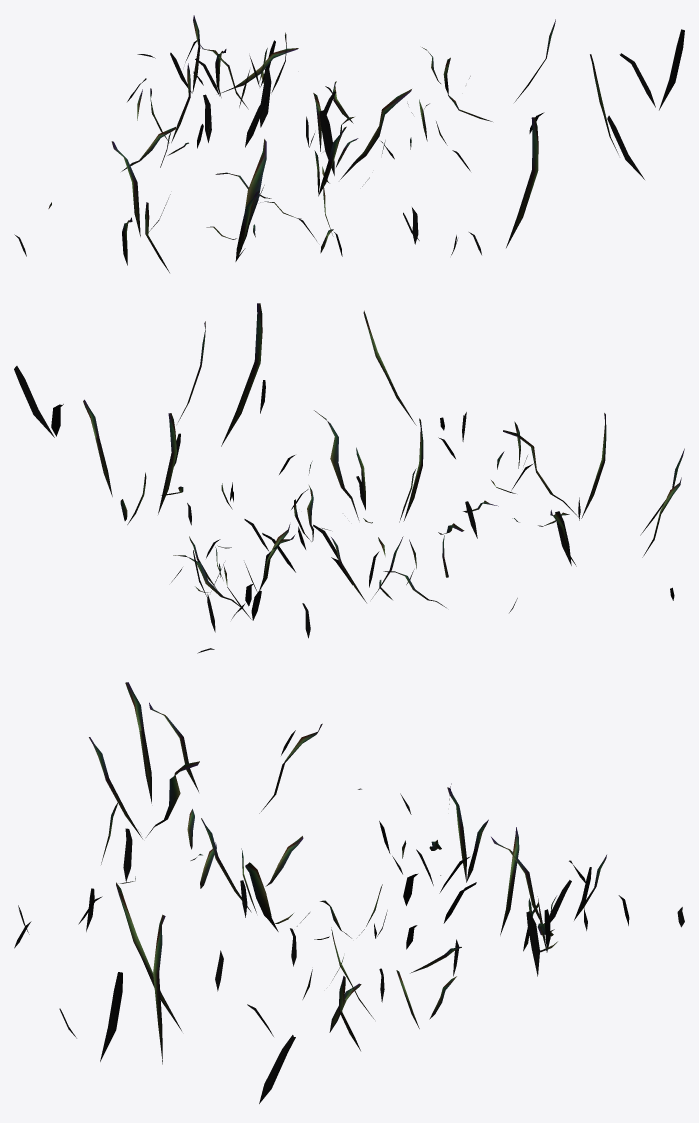
File: wasteland_grass_medium_001_lod1.gltf
The picture shows the model from 3 angles, top to bottom: view 1: azimuth 30°, elevation 25°; view 2: azimuth 150°, elevation 25°; view 3: azimuth 270°, elevation 25°; orthographic projection. The views are drawn at different scales.
Parts seen in each view (by area): view 1: Wasteland grass medium.001; view 2: Wasteland grass medium.001; view 3: Wasteland grass medium.001.
Part boxes in pixels (x1,y1,x2,y2): Wasteland grass medium.001: [14, 15, 684, 272]; Wasteland grass medium.001: [14, 303, 684, 653]; Wasteland grass medium.001: [14, 682, 684, 1103].
Bounding box in the file's own units: 0.5001 × 0.0916 × 0.3764.
1 material, 1 textured.
